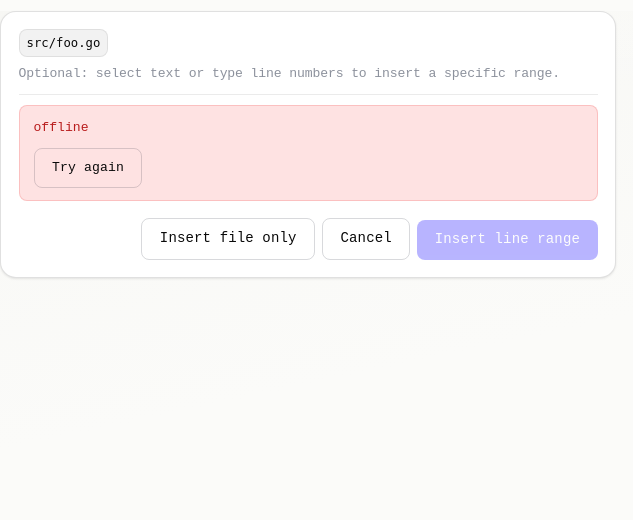
MentionRangePanel › shows load error with try again and refetches
Expected: the message shows "offline", [34,120,89,135]
Click the button "Try again".
click(88, 168)  # box [34,148,142,188]
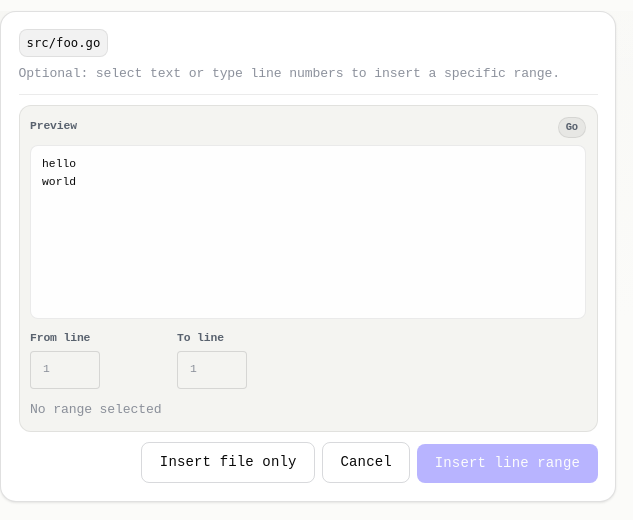
Expected: the text "src/foo.go" is shown, [18,29,108,57]
Expected: the text box labelled "Preview Go" is shown, [31,146,585,318]
